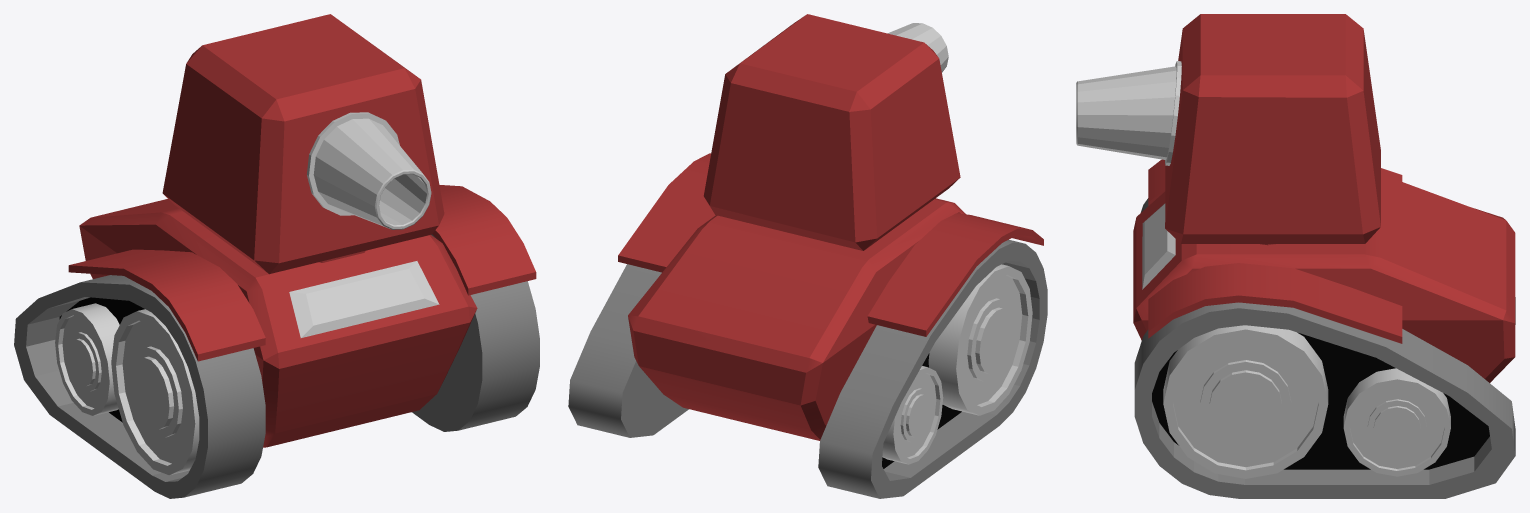
The model's file is Red Tank.fbx.
3 renders of one model, left to right at view 1: azimuth 30°, elevation 25°; view 2: azimuth 150°, elevation 25°; view 3: azimuth 270°, elevation 25°, orthographic. The views are drawn at different scales.
Parts seen in each view (by area): view 1: Head, Body, Right_Wheel (×2), Mudguard (×2), Wheelcap_Big, Canon, Wheelcap_Medium; view 2: Head, Body, Right_Wheel (×2), Mudguard (×2), Wheelcap_Big, Wheelcap_Medium, Canon; view 3: Head, Right_Wheel, Body, Wheelcap_Big, Mudguard (×2), Wheelcap_Medium, Canon.
Boxes of the visible parts, left/top/right/bottom form: Head: left=162, top=14, right=444, bottom=274; Body: left=79, top=199, right=477, bottom=447; Right_Wheel (×2): left=14, top=234, right=539, bottom=498; Mudguard (×2): left=68, top=185, right=536, bottom=361; Wheelcap_Big: left=111, top=309, right=199, bottom=475; Canon: left=306, top=112, right=431, bottom=229; Wheelcap_Medium: left=55, top=303, right=119, bottom=415; Head: left=703, top=14, right=960, bottom=250; Body: left=628, top=198, right=966, bottom=440; Right_Wheel (×2): left=568, top=239, right=1047, bottom=498; Mudguard (×2): left=618, top=153, right=1043, bottom=336; Wheelcap_Big: left=928, top=264, right=1032, bottom=415; Wheelcap_Medium: left=882, top=366, right=943, bottom=464; Canon: left=887, top=23, right=948, bottom=72; Head: left=1165, top=14, right=1380, bottom=243; Right_Wheel: left=1134, top=302, right=1515, bottom=498; Body: left=1133, top=174, right=1515, bottom=382; Wheelcap_Big: left=1163, top=325, right=1328, bottom=478; Mudguard (×2): left=1148, top=159, right=1402, bottom=343; Wheelcap_Medium: left=1343, top=368, right=1450, bottom=476; Canon: left=1076, top=61, right=1181, bottom=165.
Size of the model in its own units: 99.64 by 108 by 114.
